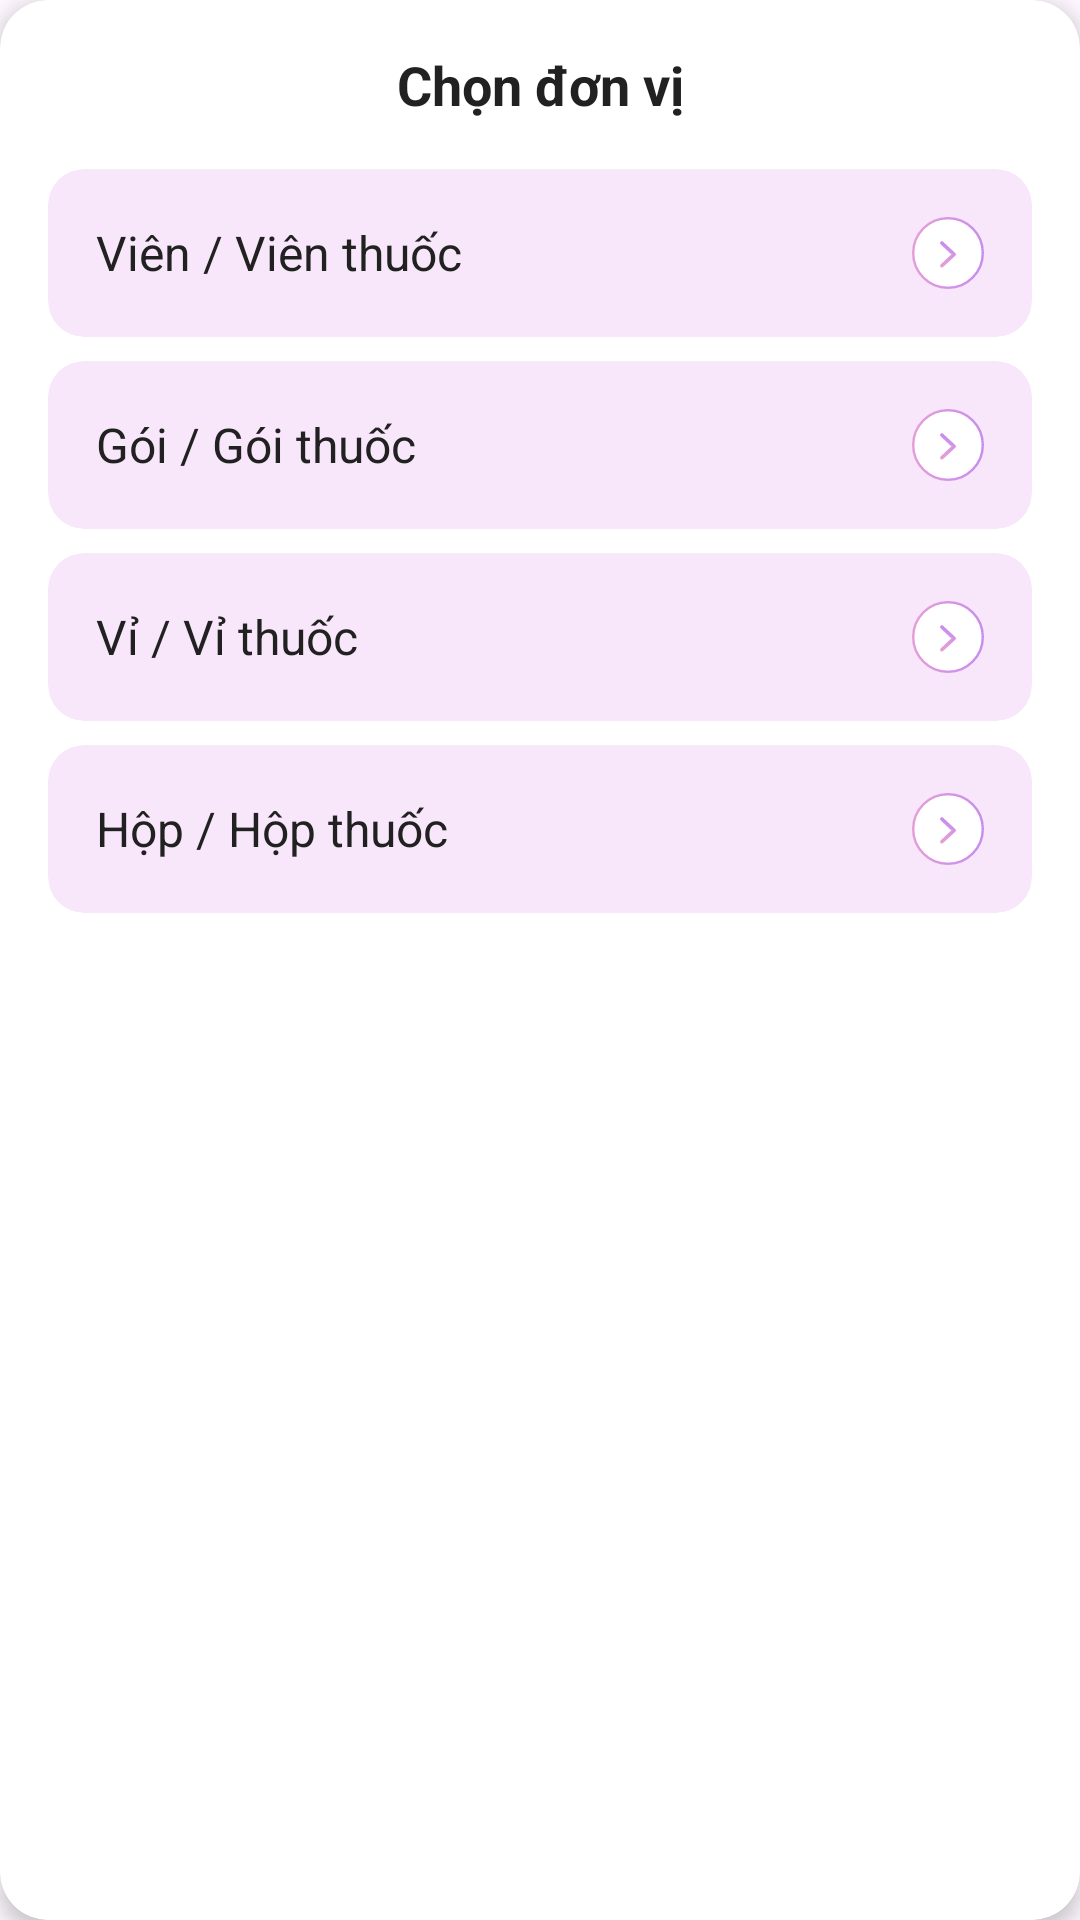

Point at icon controls on the screen. Image size 1080 x 1920, points as point (x, y).
arrow right: point (948, 253), point (948, 445), point (948, 637), point (948, 829)
